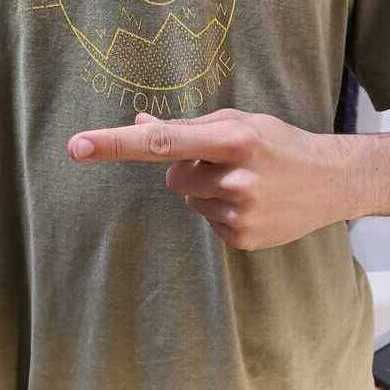G: (68, 108, 325, 251)
